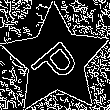P_NE: (26, 30, 86, 90)
